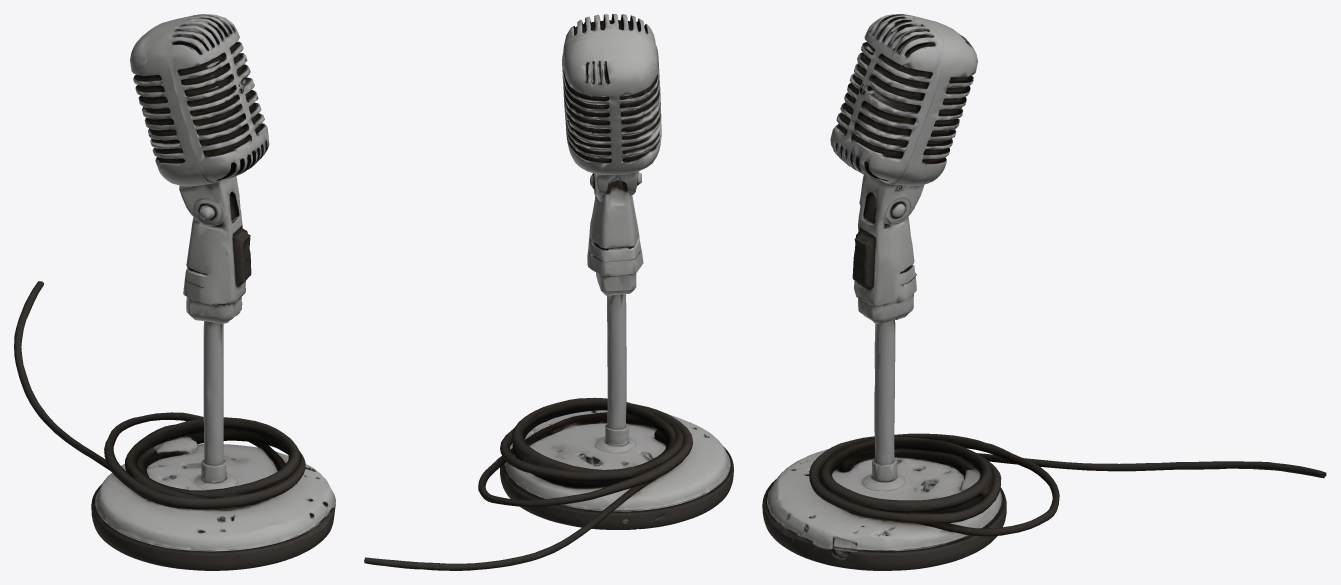
The model's file is vocals.glb.
3 renders of one model, left to right at view 1: azimuth 30°, elevation 25°; view 2: azimuth 150°, elevation 25°; view 3: azimuth 270°, elevation 25°, orthographic. The views are drawn at different scales.
Visible parts, largest first — view 1: tripo_node_69f835af-4b39-406e-bdb9-85286ce18869; view 2: tripo_node_69f835af-4b39-406e-bdb9-85286ce18869; view 3: tripo_node_69f835af-4b39-406e-bdb9-85286ce18869.
Boxes of the visible parts, x1=… form: tripo_node_69f835af-4b39-406e-bdb9-85286ce18869: x1=14, y1=14, x2=335, y2=570; tripo_node_69f835af-4b39-406e-bdb9-85286ce18869: x1=364, y1=14, x2=733, y2=570; tripo_node_69f835af-4b39-406e-bdb9-85286ce18869: x1=762, y1=14, x2=1326, y2=570.
Bounding box in the file's own units: 0.4382 × 0.9744 × 1.
Materials: 1 (1 with a texture image).
